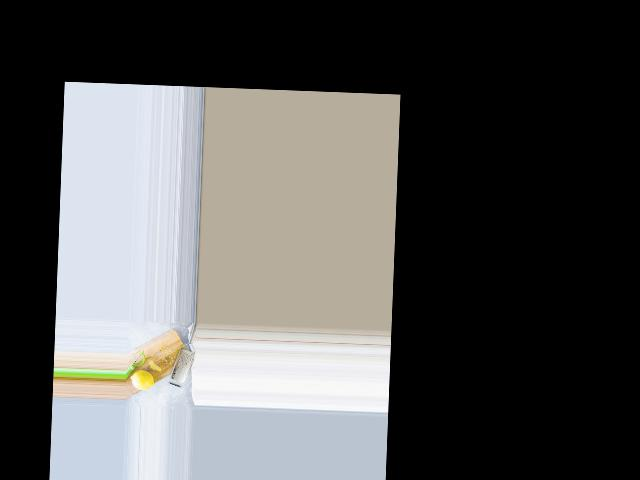lemon: (129, 369, 154, 391)
